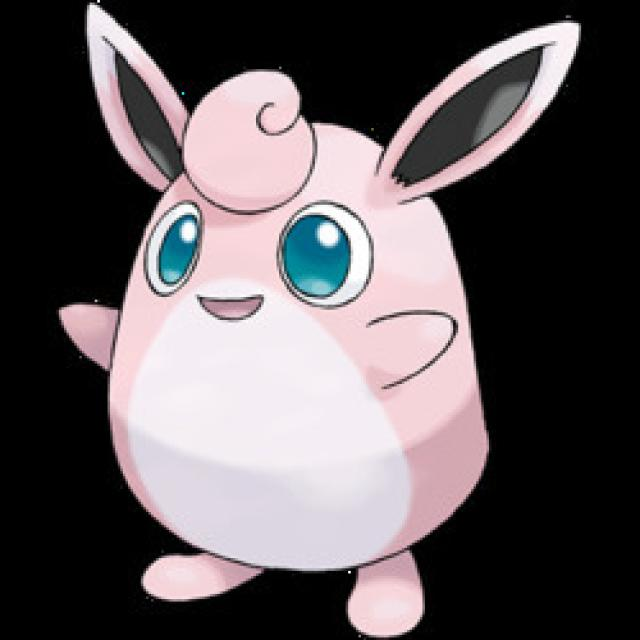Wigglytuff: (78, 63, 494, 614)
